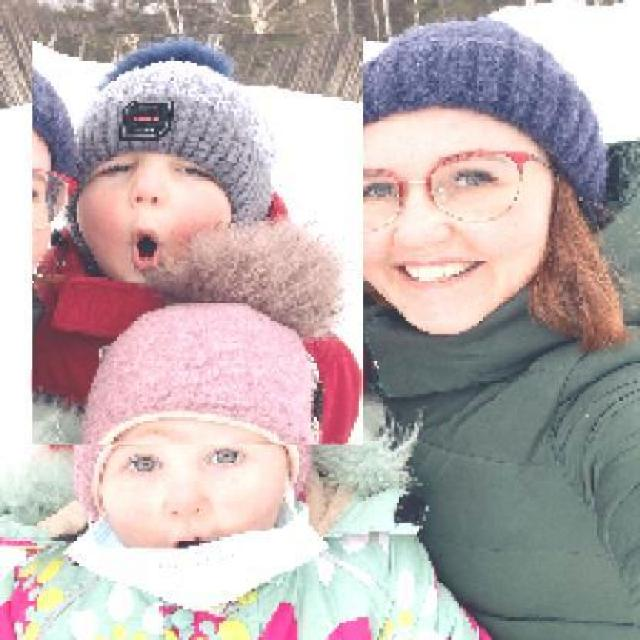child: (2, 300, 495, 637), (31, 34, 363, 446)
